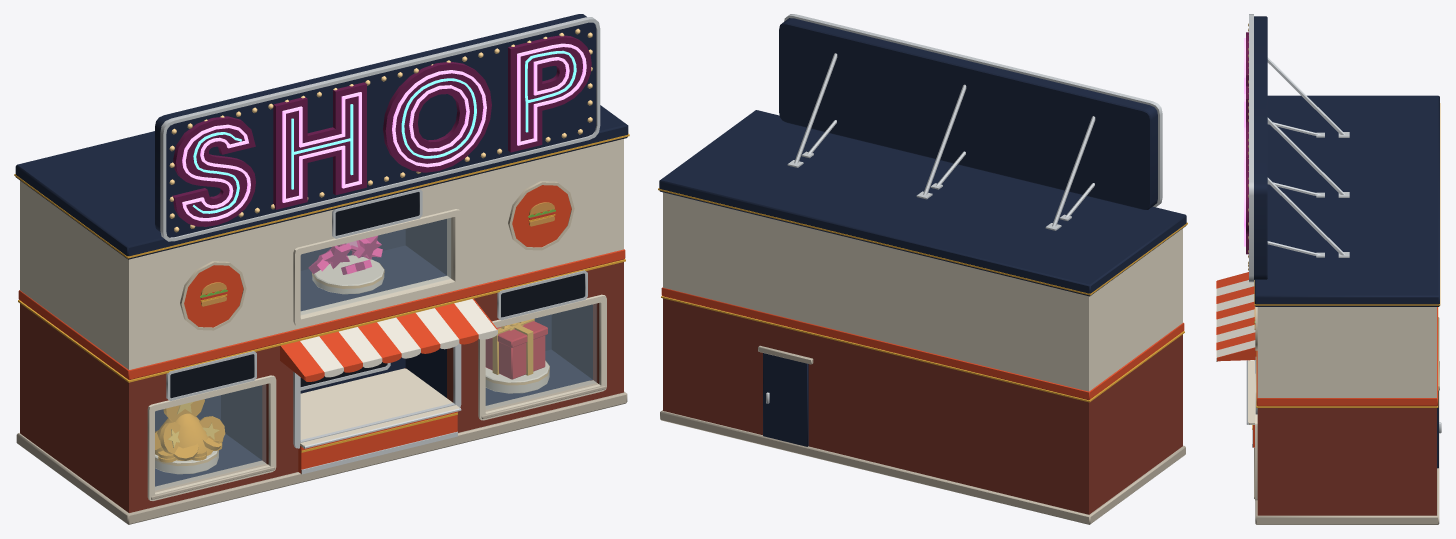
Rendered from Lobby_ShopFront.fbx.
3 views of the same model, side by side, from view 1: azimuth 30°, elevation 25°; view 2: azimuth 150°, elevation 25°; view 3: azimuth 270°, elevation 25° (orthographic). The views are drawn at different scales.
Parts seen in each view (by area): view 1: Cream, Navy, Brick, Glass, SignBacker, Interior, Chrome, Stone, BrandBand, AwningRed, SignPink, Mustard (+12 smaller); view 2: Navy, Brick, Cream, Stone, Chrome, BrandBand, Mustard; view 3: Navy, Brick, Cream, Chrome, Stone, AwningRed, BrandBand, AwningCream, Mustard, SignBacker, SignPink.
Boxes of the visible parts, bbox=[...] form: Cream: bbox=[20, 139, 623, 500]; Navy: bbox=[15, 14, 628, 259]; Brick: bbox=[20, 259, 623, 512]; Glass: bbox=[155, 218, 596, 490]; SignBacker: bbox=[172, 35, 591, 226]; Interior: bbox=[155, 219, 592, 486]; Chrome: bbox=[160, 17, 600, 474]; Stone: bbox=[16, 380, 627, 524]; BrandBand: bbox=[18, 249, 625, 473]; AwningRed: bbox=[184, 185, 571, 381]; SignPink: bbox=[182, 43, 586, 221]; Mustard: bbox=[14, 134, 629, 452]; Navy: bbox=[659, 18, 1186, 446]; Brick: bbox=[663, 296, 1182, 514]; Cream: bbox=[663, 192, 1182, 391]; Stone: bbox=[660, 345, 1185, 524]; Chrome: bbox=[766, 14, 1162, 403]; BrandBand: bbox=[661, 287, 1184, 399]; Mustard: bbox=[658, 188, 1187, 402]; Navy: bbox=[1254, 16, 1439, 468]; Brick: bbox=[1257, 406, 1436, 515]; Cream: bbox=[1248, 306, 1436, 500]; Chrome: bbox=[1246, 14, 1441, 447]; Stone: bbox=[1254, 317, 1439, 524]; AwningRed: bbox=[1216, 272, 1256, 361]; BrandBand: bbox=[1253, 307, 1437, 447]; AwningCream: bbox=[1216, 280, 1255, 361]; Mustard: bbox=[1252, 103, 1440, 429]; SignBacker: bbox=[1246, 32, 1248, 254]; SignPink: bbox=[1244, 38, 1245, 246].
Size of the model in its own units: 3856 by 2918 by 1822.
